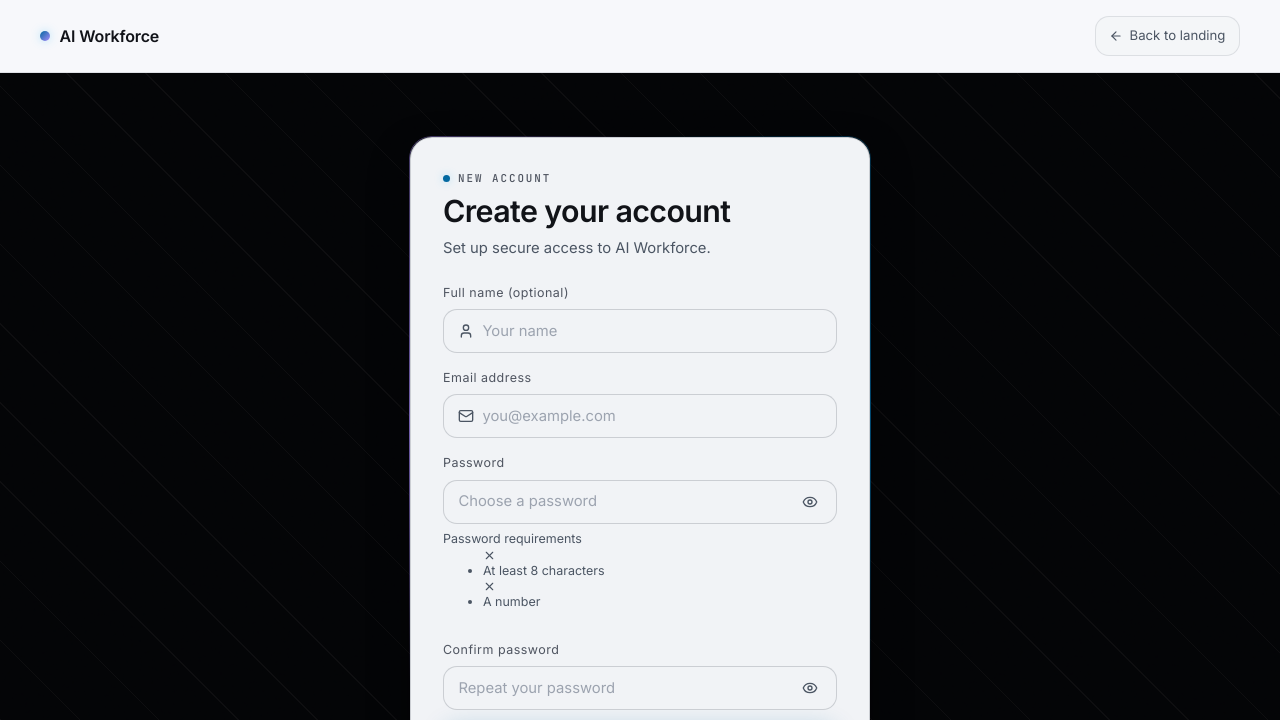
Test: Sign up › shows only the enforced password requirements and validates locally
Expected: the text "At least 8 characters" is shown, [483, 563, 605, 578]
Expected: the text "A number" is shown, [483, 594, 540, 609]
Type "new@example.com" into the field labelled "Email address" at coordinates (652, 416), box [482, 397, 822, 436]
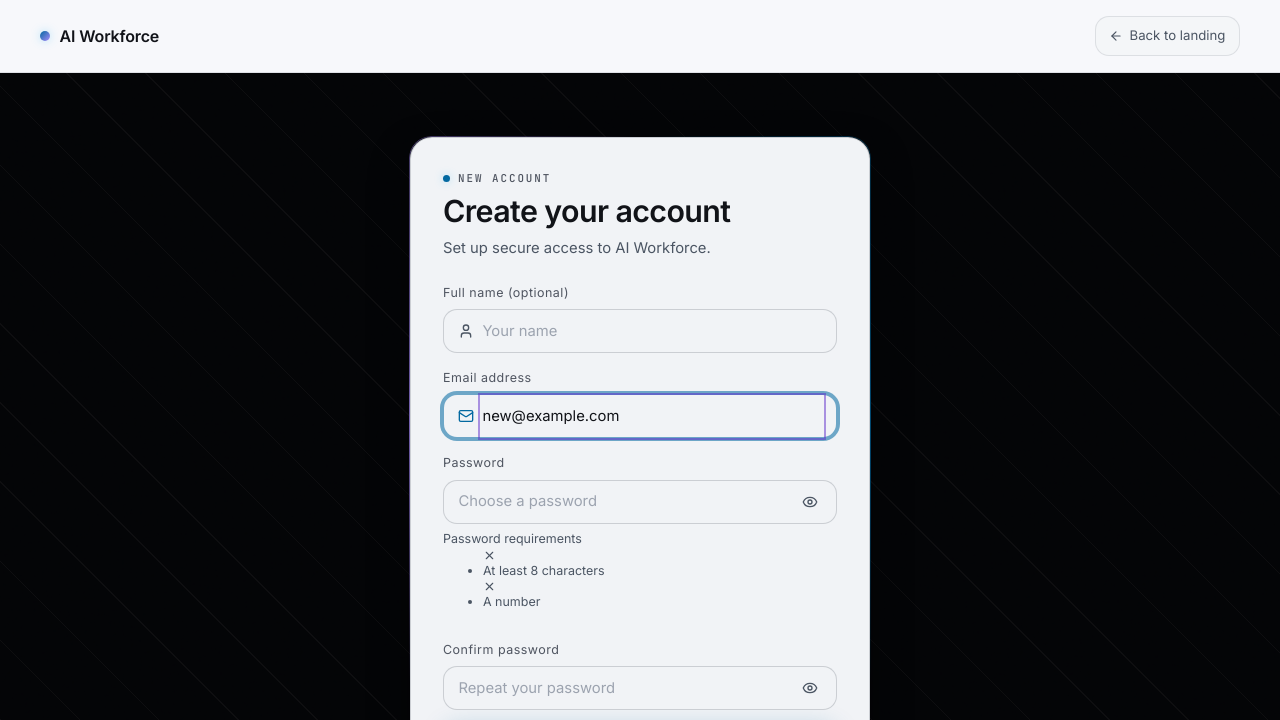
Type "longpassword1" into the password field labelled "Password" at coordinates (624, 502), box [458, 482, 790, 521]
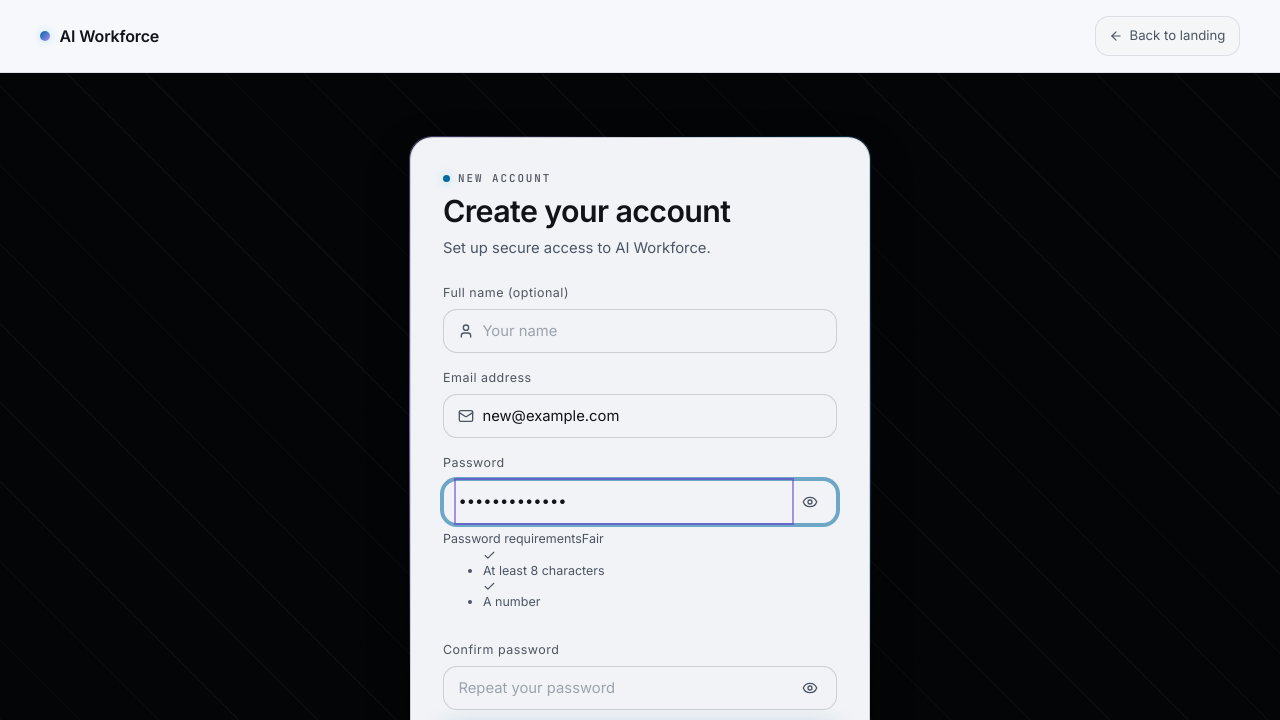
Type "different1" into the password field labelled "Confirm password" at coordinates (624, 688), box [458, 668, 790, 707]
(page scrolled)
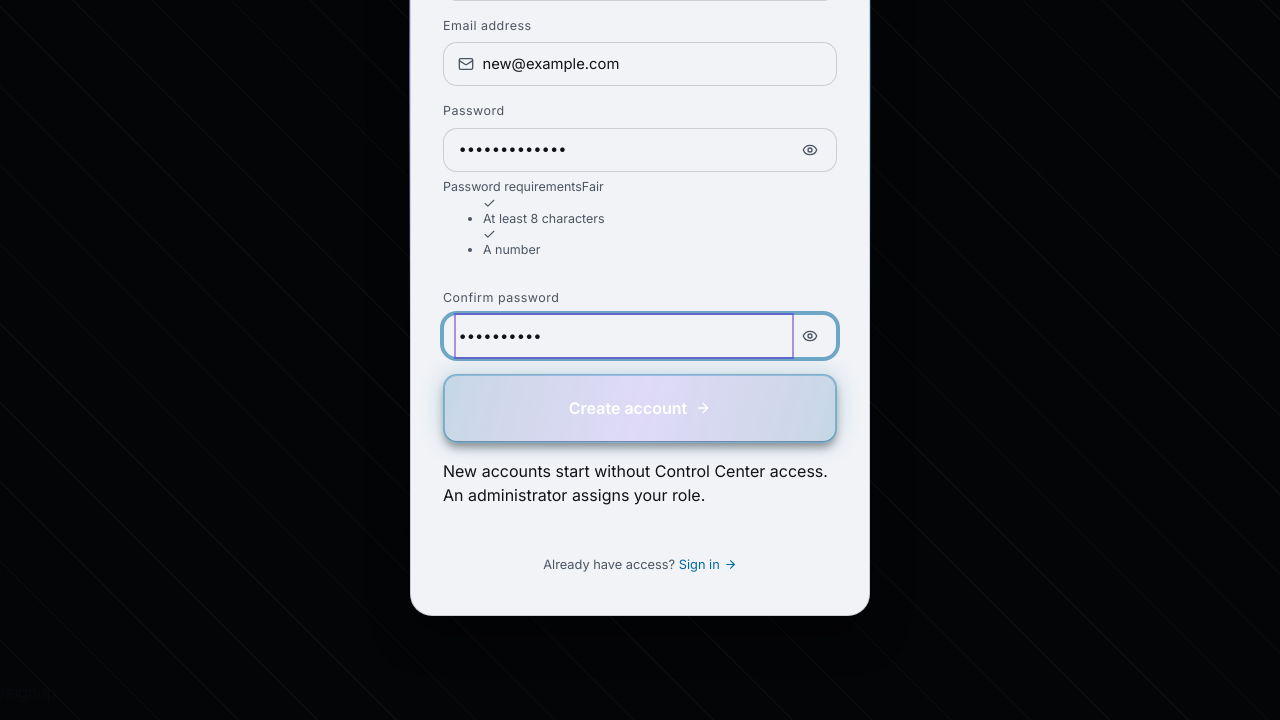
Click the button "Create account" at coordinates (640, 408), box [443, 374, 837, 443]
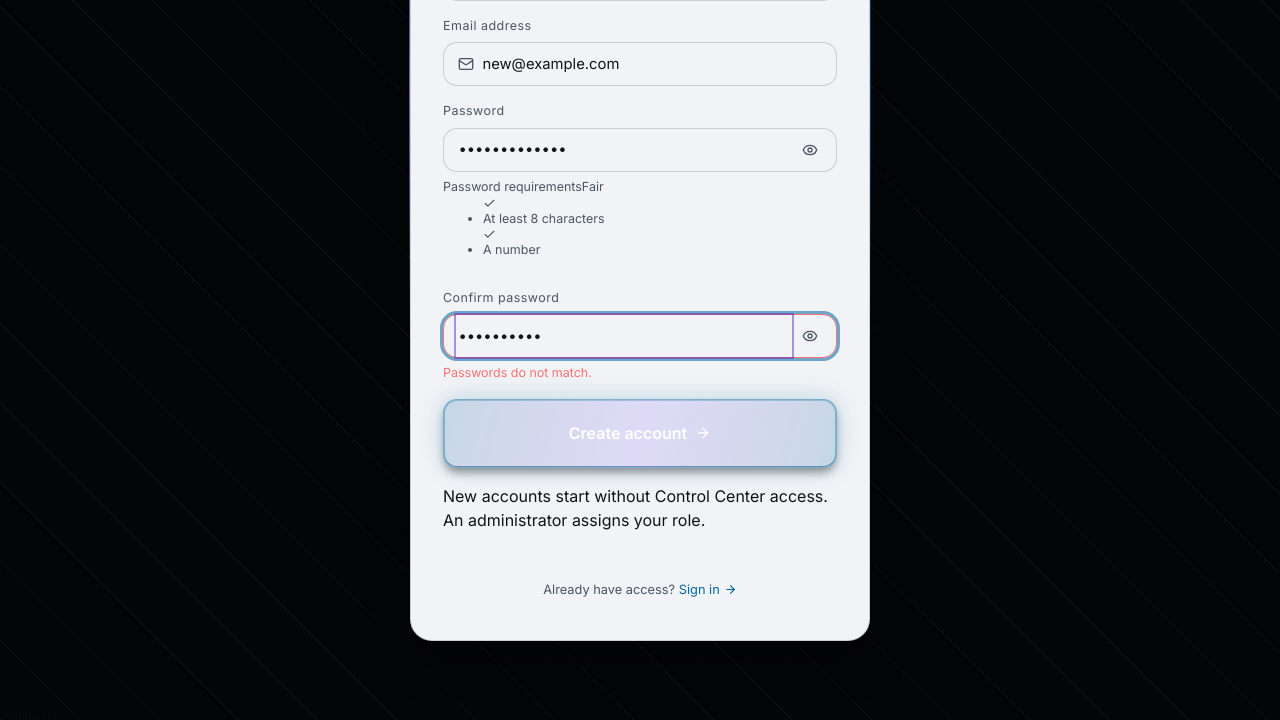
Result: the text "Passwords do not match." is shown at [443, 365, 592, 380]
